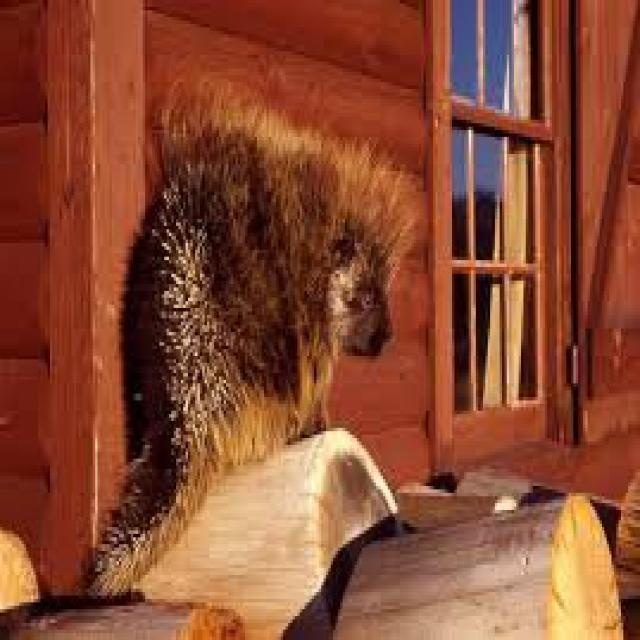Porcupine: (90, 114, 408, 570)
